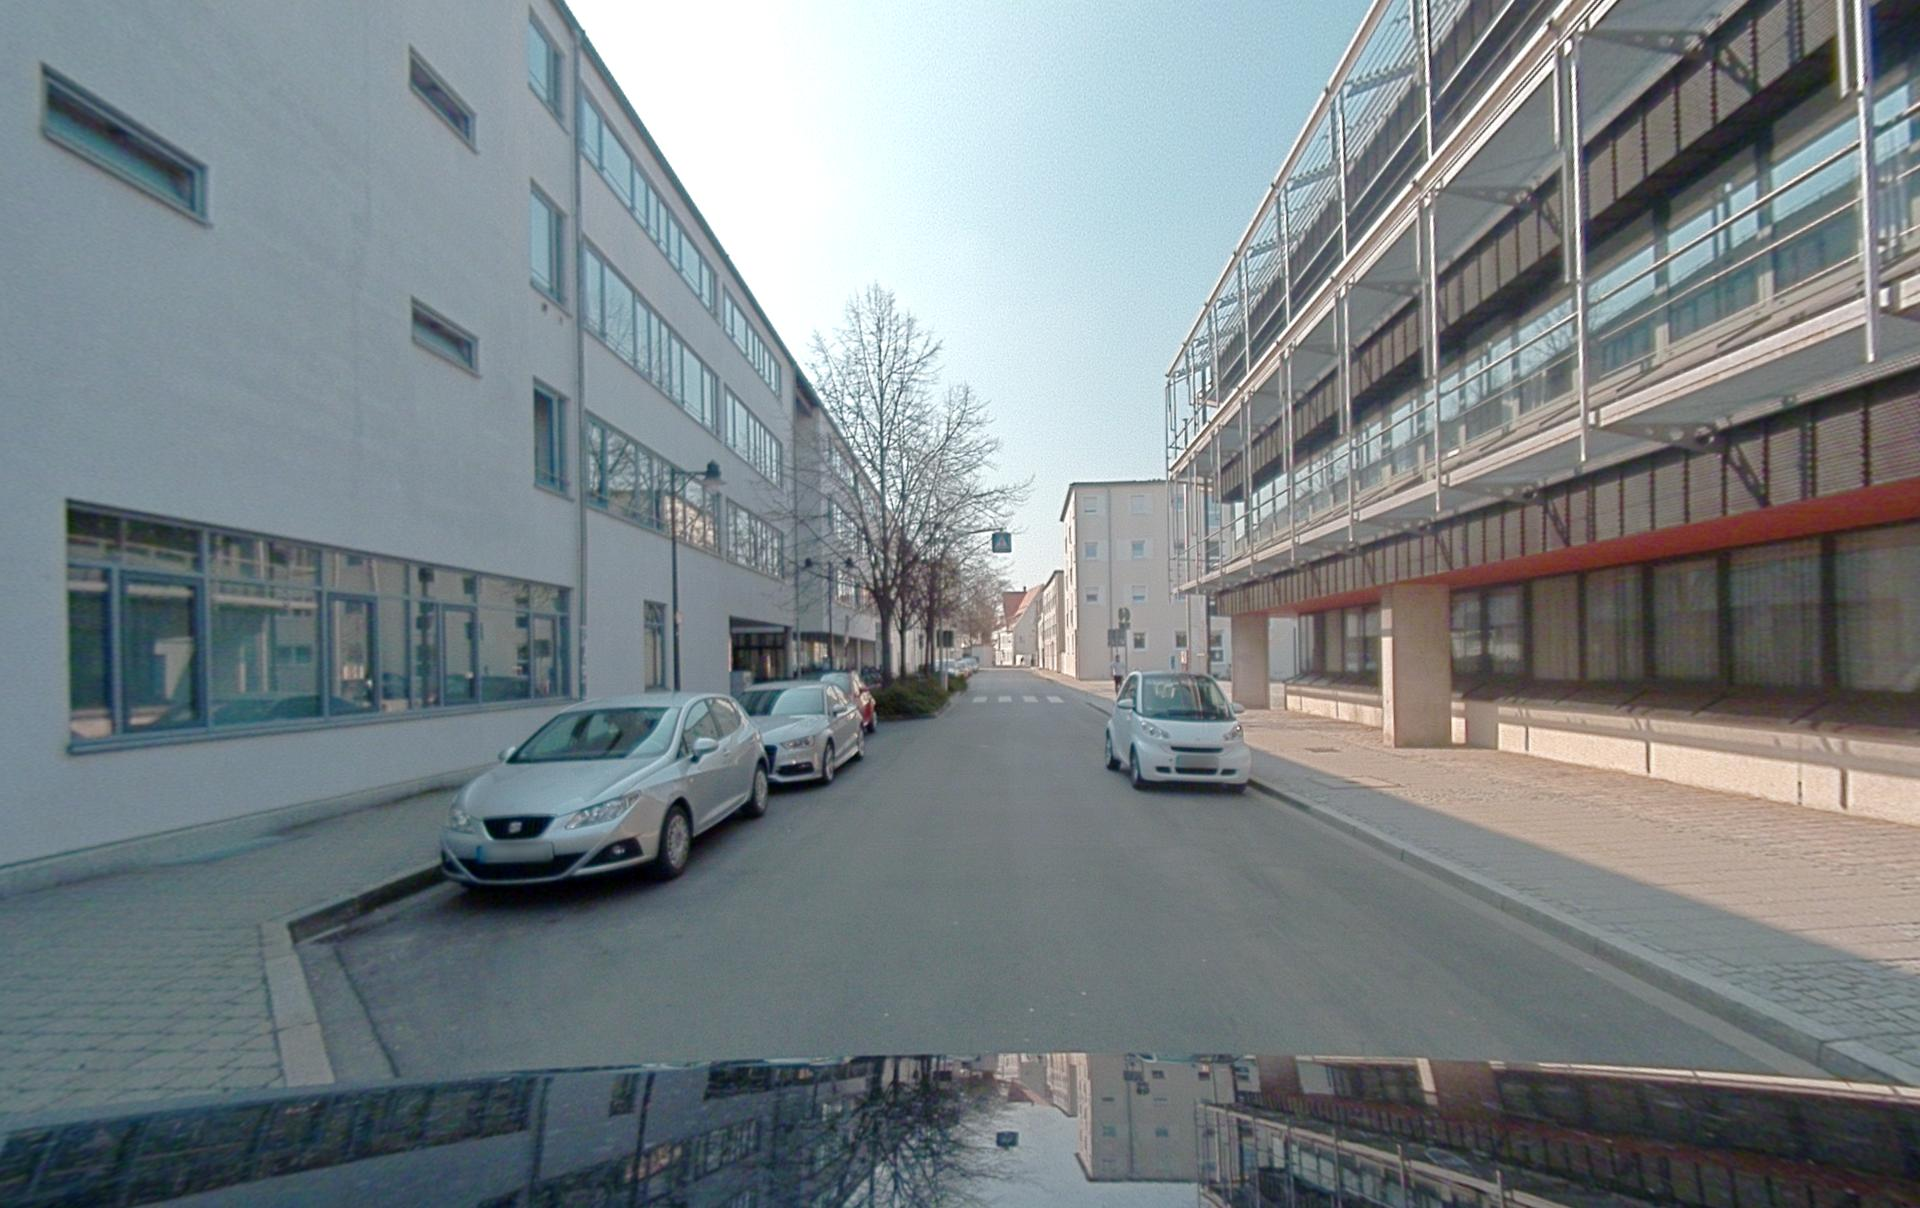car: (442, 692, 769, 886), (1105, 672, 1250, 790), (739, 682, 863, 782), (820, 671, 876, 732)
